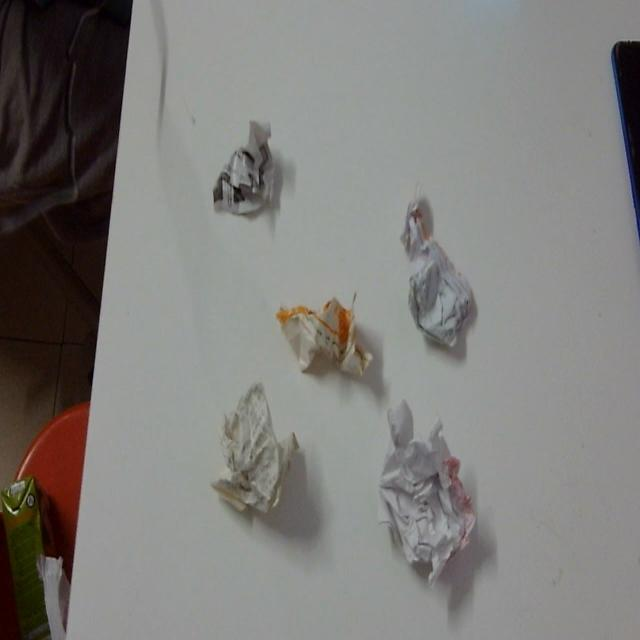paperrotation: (370, 396, 482, 590), (390, 186, 480, 354), (208, 372, 306, 521), (276, 284, 378, 384), (207, 108, 282, 236)
